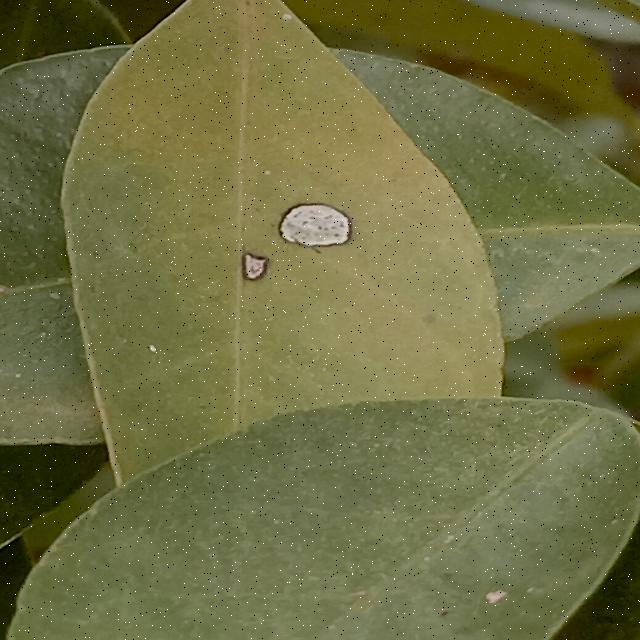canker: (213, 179, 380, 295)
